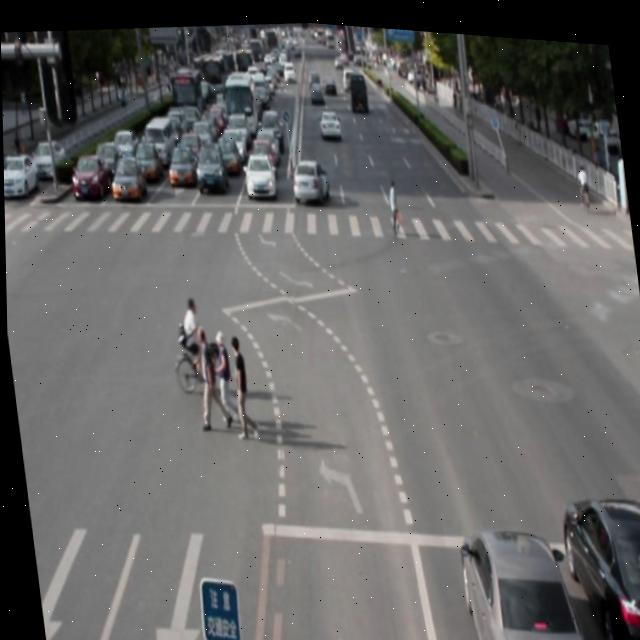car: (453, 511, 578, 640), (555, 478, 640, 640)
